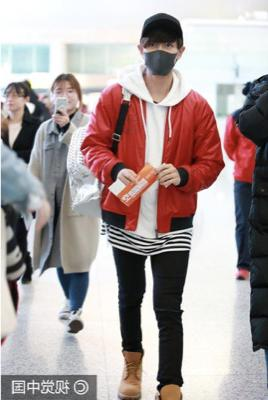with_mask: (142, 41, 177, 76)
without_mask: (54, 86, 75, 112), (3, 90, 23, 112)
